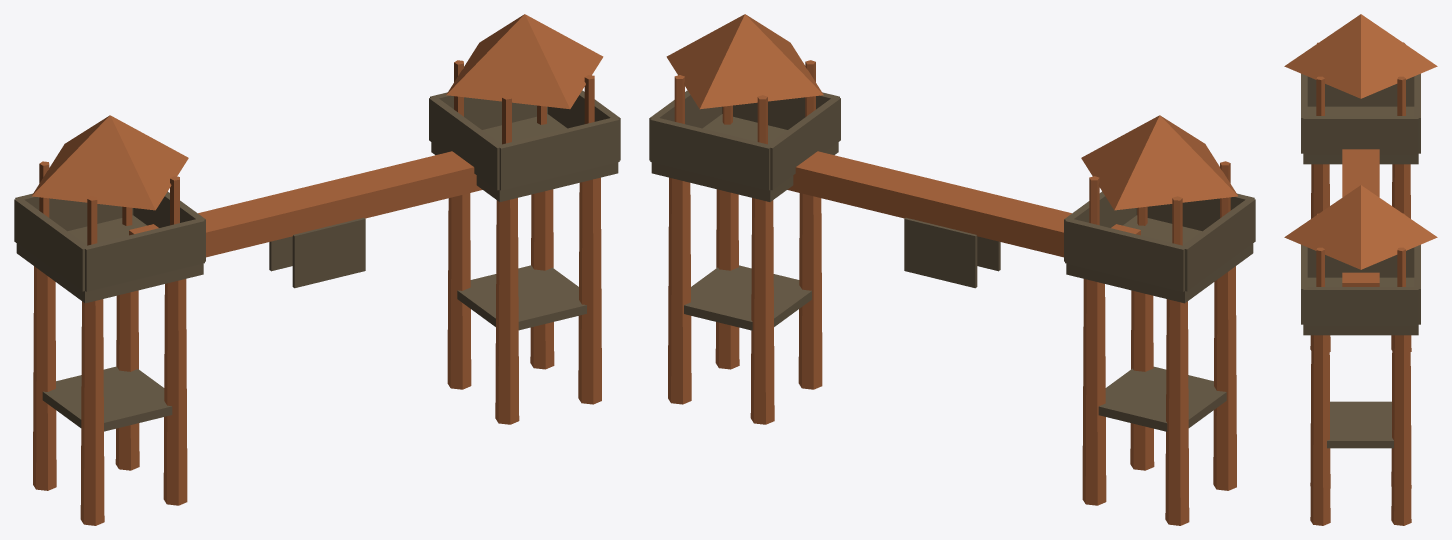
Rendered from gnome_gate.glb.
The picture shows the model from 3 angles, left to right: view 1: azimuth 30°, elevation 25°; view 2: azimuth 150°, elevation 25°; view 3: azimuth 270°, elevation 25°; orthographic projection. The views are drawn at different scales.
Visible parts, largest first — view 1: gnome_gate; view 2: gnome_gate; view 3: gnome_gate.
Part boxes in pixels (x1,y1,x2,y2): gnome_gate: (14, 14, 620, 525); gnome_gate: (649, 14, 1255, 525); gnome_gate: (1284, 14, 1437, 525).
Bounding box in the file's own units: 4.83 × 3.05 × 1.33.
